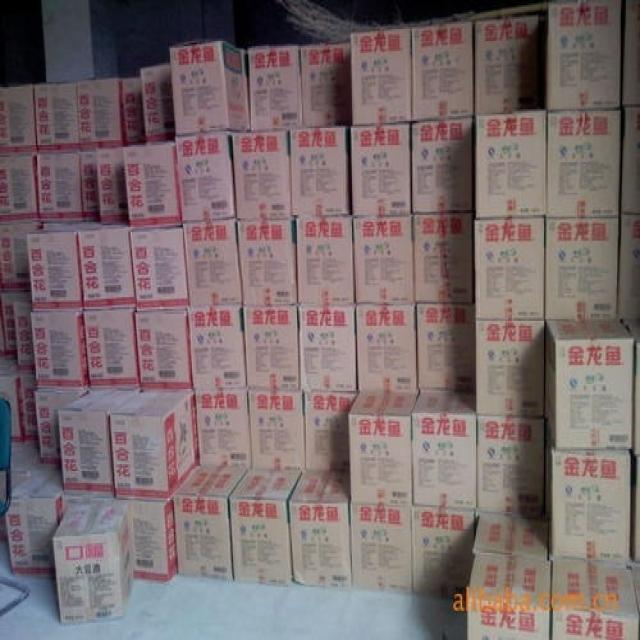box: (545, 319, 634, 449), (544, 433, 631, 561), (108, 387, 202, 502), (54, 500, 136, 625), (169, 463, 247, 582), (225, 469, 303, 582), (544, 0, 621, 111), (545, 106, 620, 218), (59, 389, 138, 495), (348, 391, 419, 505), (471, 109, 545, 218), (287, 469, 352, 592), (410, 391, 477, 509), (169, 41, 251, 135), (544, 218, 618, 321), (472, 15, 547, 116), (549, 556, 639, 640), (475, 413, 545, 517), (474, 217, 545, 319), (467, 553, 550, 640), (475, 319, 544, 415), (28, 220, 101, 309), (411, 22, 475, 123), (5, 468, 64, 575), (349, 123, 412, 218), (410, 118, 472, 213), (351, 29, 411, 125), (352, 215, 415, 304), (355, 304, 419, 391), (413, 213, 474, 304), (411, 507, 474, 594), (292, 126, 352, 217), (417, 302, 475, 396), (76, 220, 137, 309), (111, 498, 177, 580), (175, 135, 237, 222), (351, 505, 413, 592), (230, 130, 291, 218), (237, 218, 298, 305), (124, 143, 184, 230), (182, 220, 242, 307), (296, 213, 353, 304), (187, 300, 246, 387), (298, 302, 357, 389), (78, 77, 146, 152), (243, 305, 300, 391), (193, 387, 251, 471), (129, 229, 188, 311), (32, 307, 90, 389), (247, 387, 305, 469), (302, 389, 360, 471), (247, 44, 302, 130), (134, 309, 192, 387), (301, 43, 353, 128), (86, 309, 141, 389), (35, 389, 91, 466), (474, 509, 549, 560), (37, 148, 82, 224), (32, 85, 79, 150), (0, 150, 40, 224), (0, 222, 41, 292), (141, 63, 174, 145), (93, 147, 128, 222), (0, 85, 37, 155), (617, 215, 640, 321), (0, 352, 27, 437), (621, 0, 640, 109), (621, 108, 640, 215), (0, 292, 31, 353), (12, 292, 35, 370), (79, 150, 100, 222), (17, 367, 37, 435), (12, 445, 40, 488), (61, 490, 113, 512), (631, 452, 639, 561)
